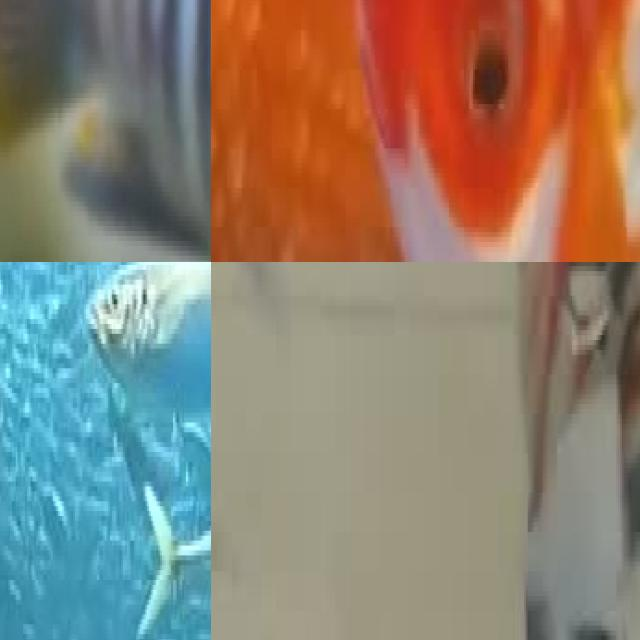fish: (0, 0, 211, 262), (136, 427, 211, 634)
